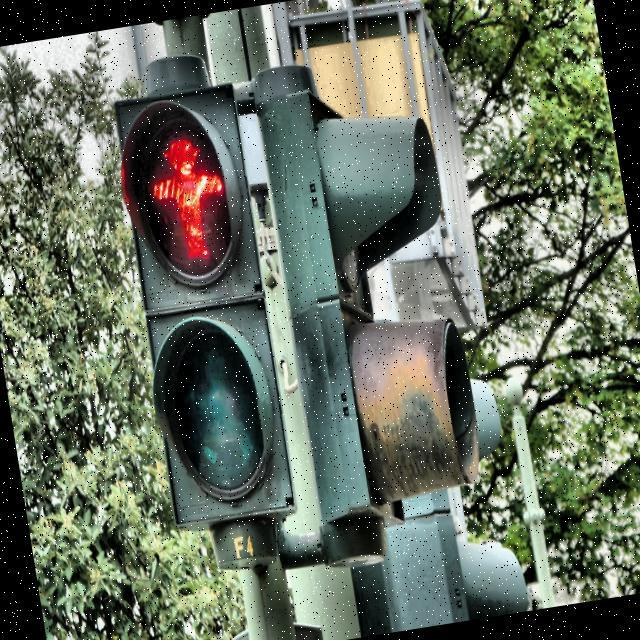red_light: (142, 126, 236, 270)
